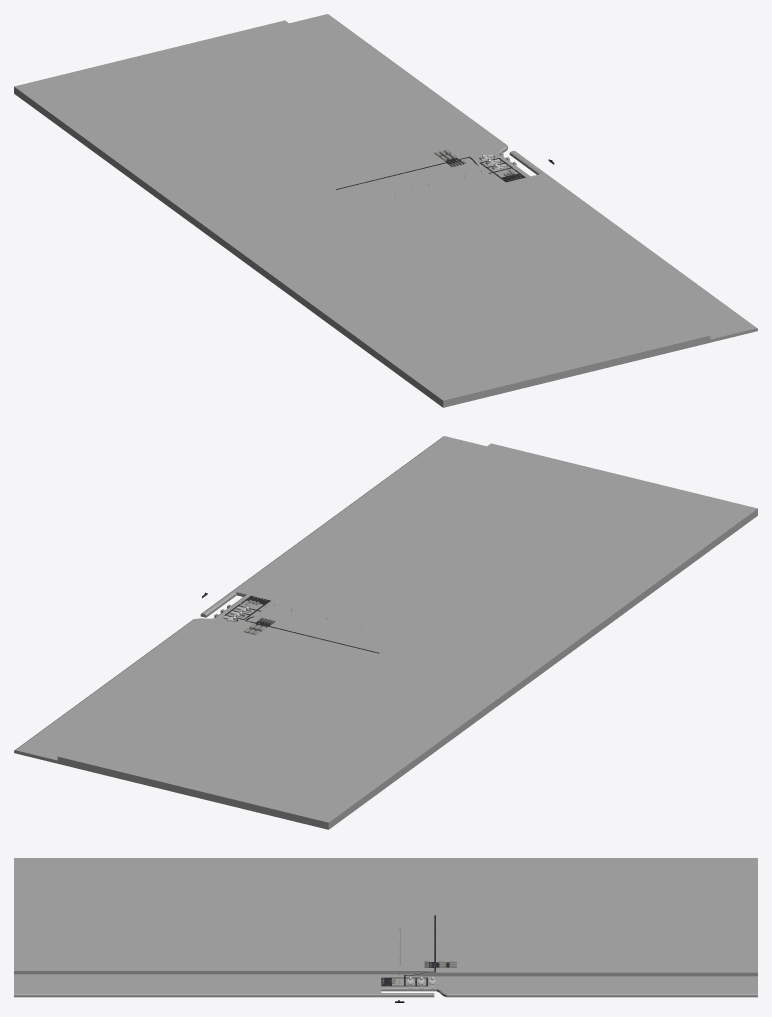
3 views of the same model, one above another, from view 1: azimuth 30°, elevation 25°; view 2: azimuth 150°, elevation 25°; view 3: azimuth 270°, elevation 25° (orthographic). The views are drawn at different scales.
Visible parts, largest first — view 1: polySurface224; view 2: polySurface224; view 3: polySurface224.
Boxes of the visible parts, x1,y1,x2,y2 form: polySurface224: (14,14,757,407); polySurface224: (14,436,757,829); polySurface224: (14,858,757,997).
Size of the model in its own units: 442 by 13.98 by 991.
